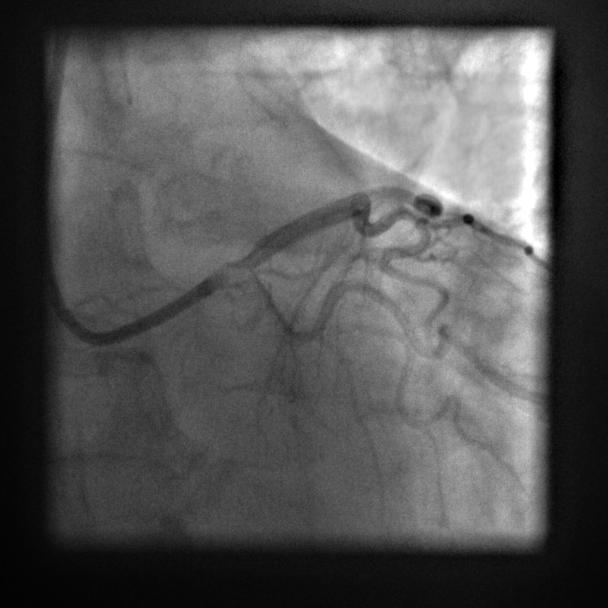Stenosis: (232, 242, 269, 272)
